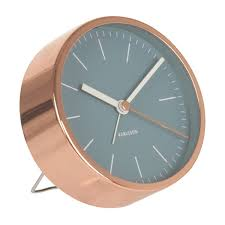alarm_clock: (18, 14, 205, 207)
